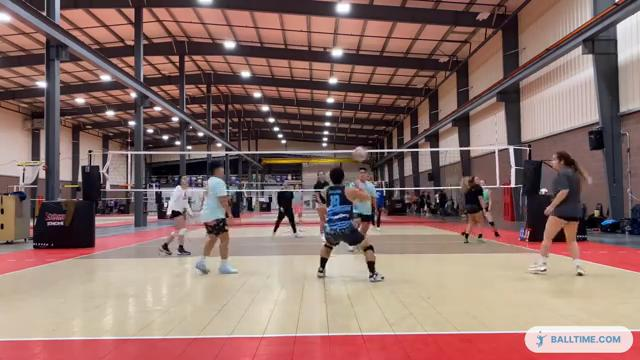Player: (529, 151, 591, 275), (317, 167, 383, 281), (195, 164, 237, 273), (160, 176, 190, 254), (353, 168, 376, 235), (461, 176, 484, 242), (272, 184, 300, 237), (475, 177, 499, 236), (314, 172, 328, 240), (374, 184, 384, 229)
Receive: (312, 165, 384, 283)
ball: (349, 145, 368, 162)
